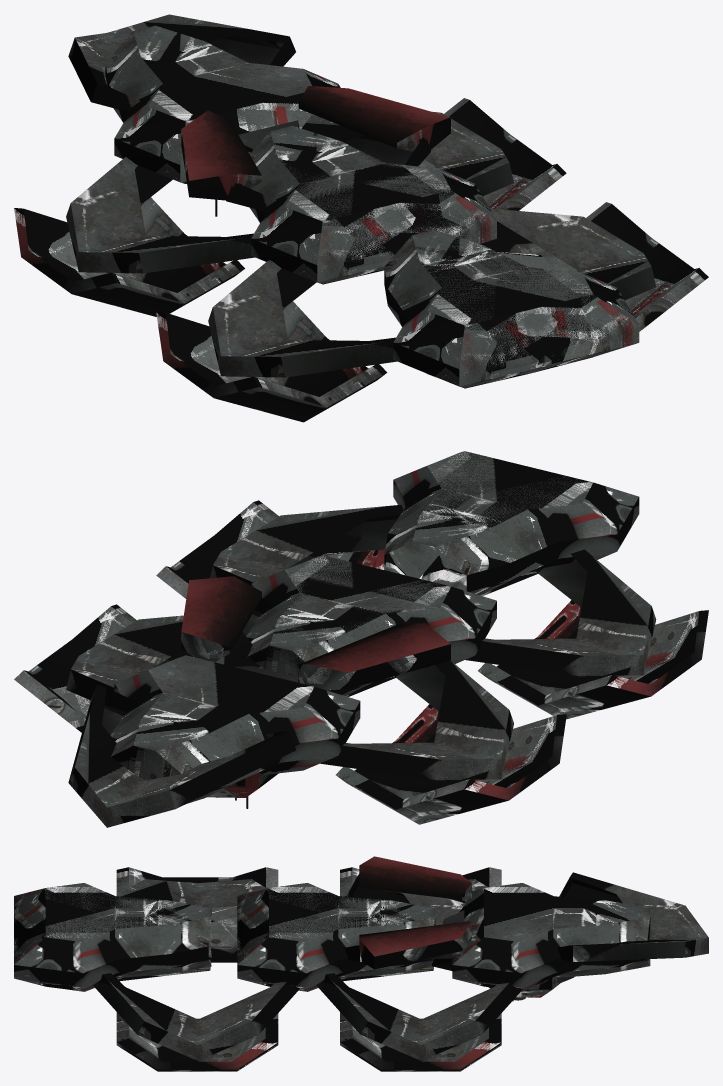
Rendered from TypeWII.fbx.
3 views of the same model, one above another, from view 1: azimuth 30°, elevation 25°; view 2: azimuth 150°, elevation 25°; view 3: azimuth 270°, elevation 25° (orthographic). The views are drawn at different scales.
Visible parts, largest first — view 1: TypeWII; view 2: TypeWII; view 3: TypeWII.
Boxes of the visible parts, x1=… form: TypeWII: x1=14, y1=14, x2=708, y2=422; TypeWII: x1=14, y1=451, x2=708, y2=827; TypeWII: x1=14, y1=856, x2=708, y2=1071.
Bounding box in the file's own units: 131 × 36.11 × 206.
Materials: 1 (1 with a texture image).
